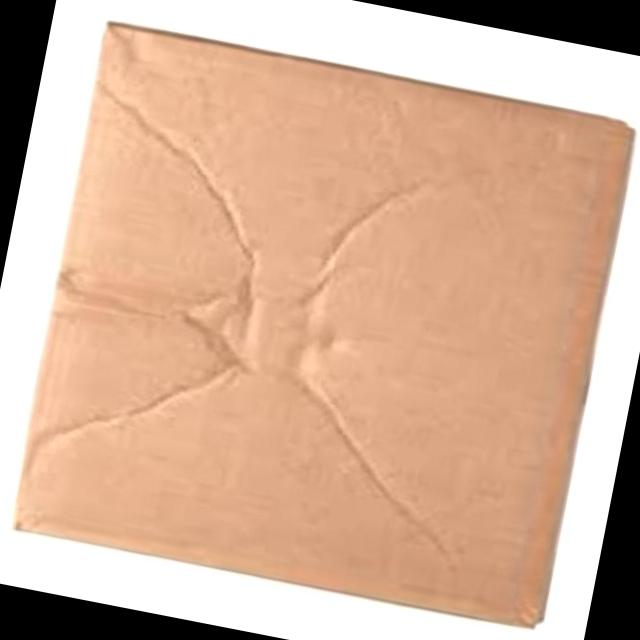box: (90, 142, 513, 583)
